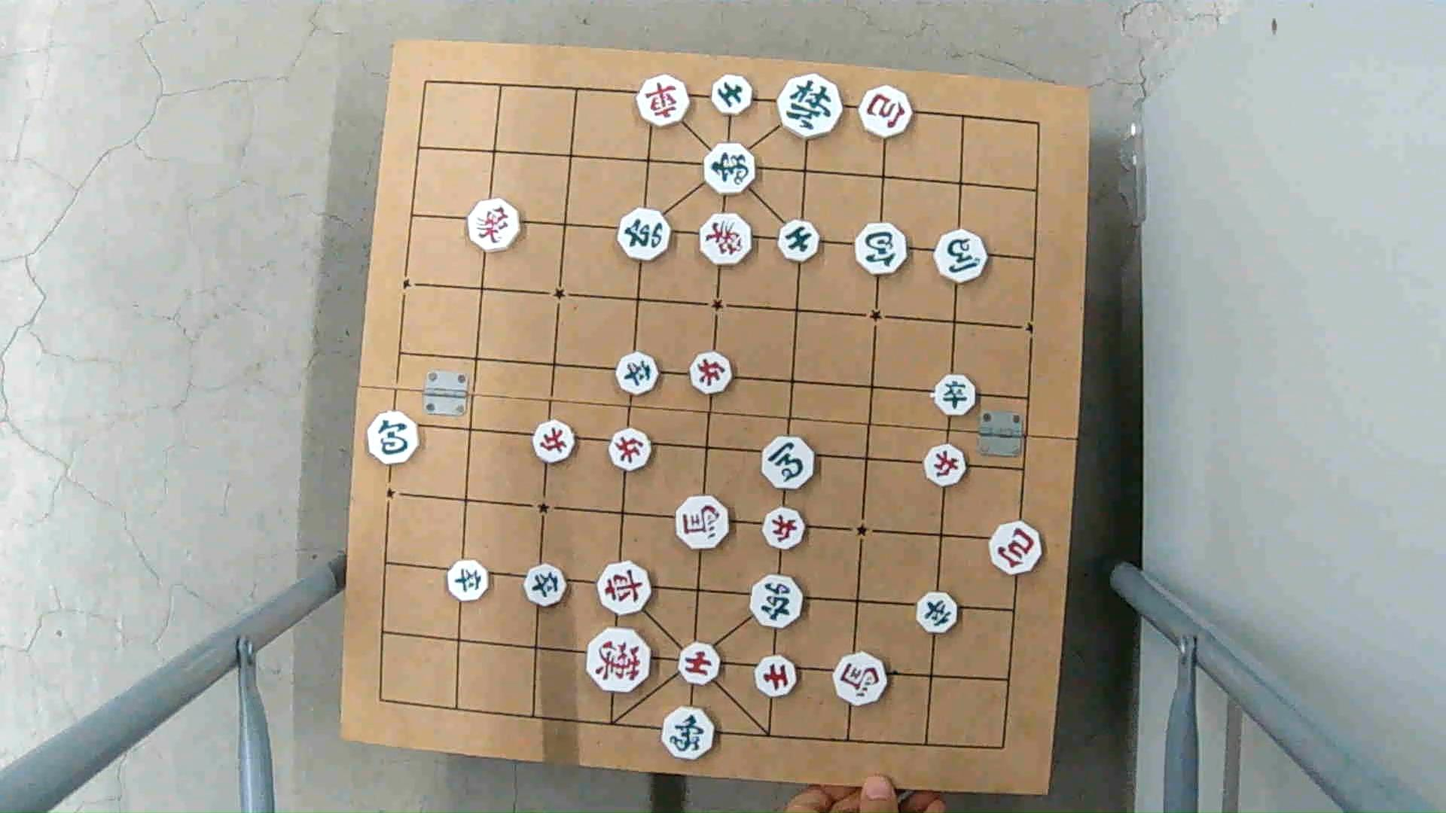cha_green: (746, 577, 804, 628), (618, 211, 673, 258)
cha_red: (594, 564, 653, 613), (635, 77, 693, 125)
jol_green: (913, 592, 961, 635), (932, 376, 979, 415), (447, 562, 494, 601), (520, 568, 568, 606), (615, 355, 661, 392)
jol_red: (609, 428, 655, 470), (689, 352, 736, 392), (529, 422, 576, 461), (761, 510, 808, 548), (924, 446, 970, 484)
ma_green: (760, 438, 818, 487), (932, 233, 987, 282)
ma_red: (673, 495, 730, 549), (832, 653, 890, 703)
po_green: (362, 414, 422, 464), (853, 224, 909, 273)
po_red: (857, 87, 917, 136), (987, 525, 1043, 571)
sa_green: (709, 75, 756, 117), (776, 219, 822, 261)
sa_red: (676, 644, 721, 687), (752, 654, 798, 694)
sang_green: (703, 144, 758, 192), (662, 707, 715, 756)
sang_red: (464, 201, 520, 249), (698, 215, 754, 263)
wang_green: (774, 77, 846, 135)
wang_red: (587, 631, 656, 689)
